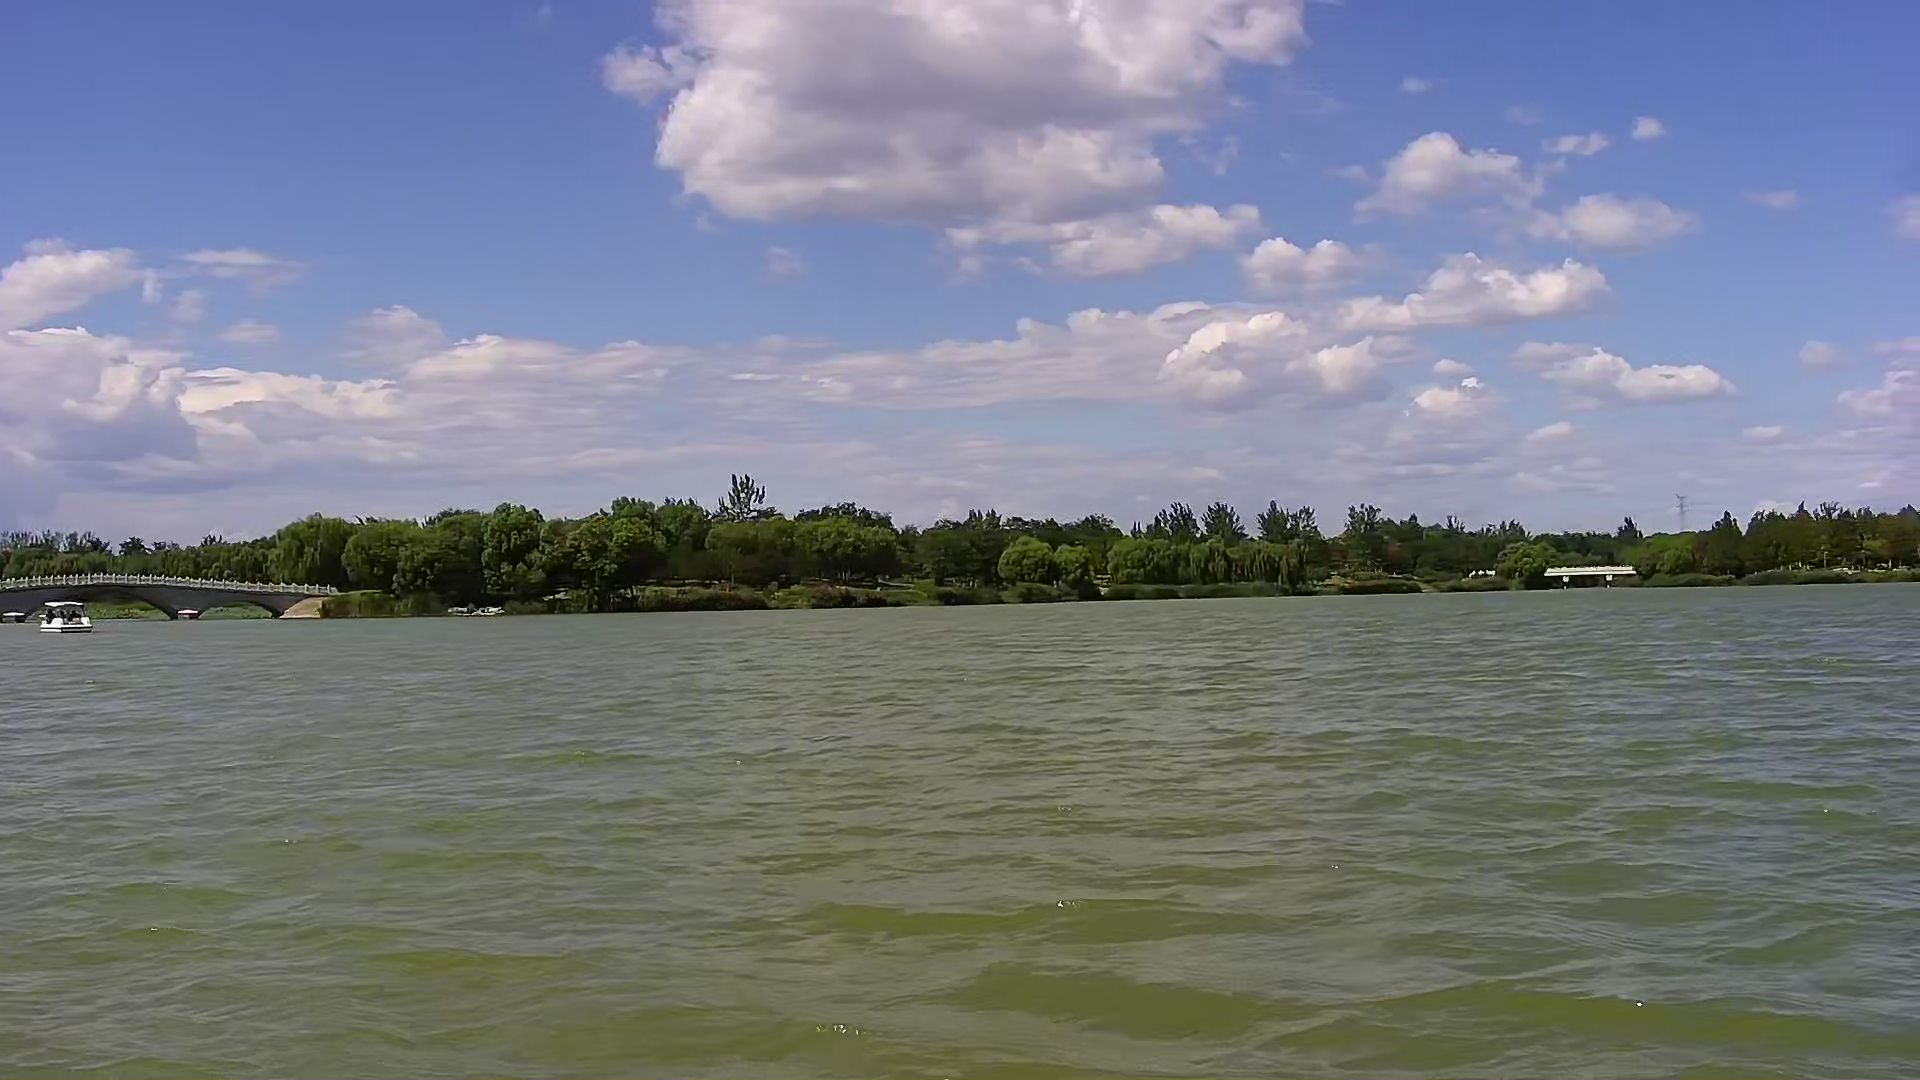boat: (37, 596, 98, 646)
bridge: (9, 562, 349, 618)
